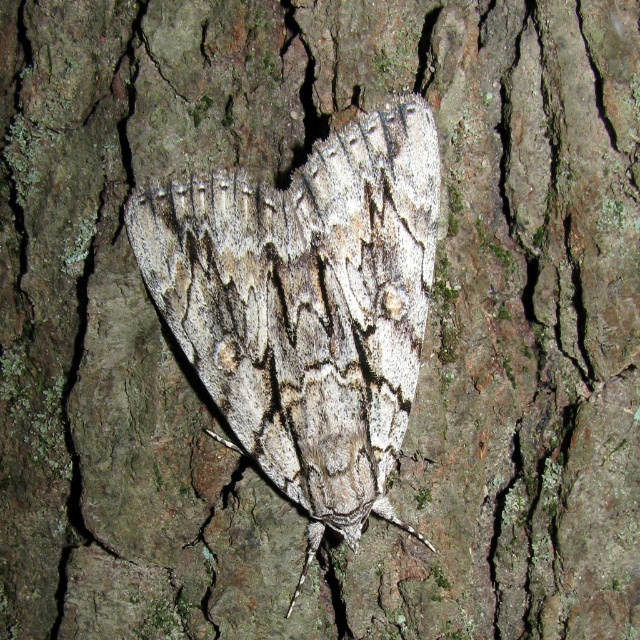Moths and butterflies: (120, 87, 444, 620)
